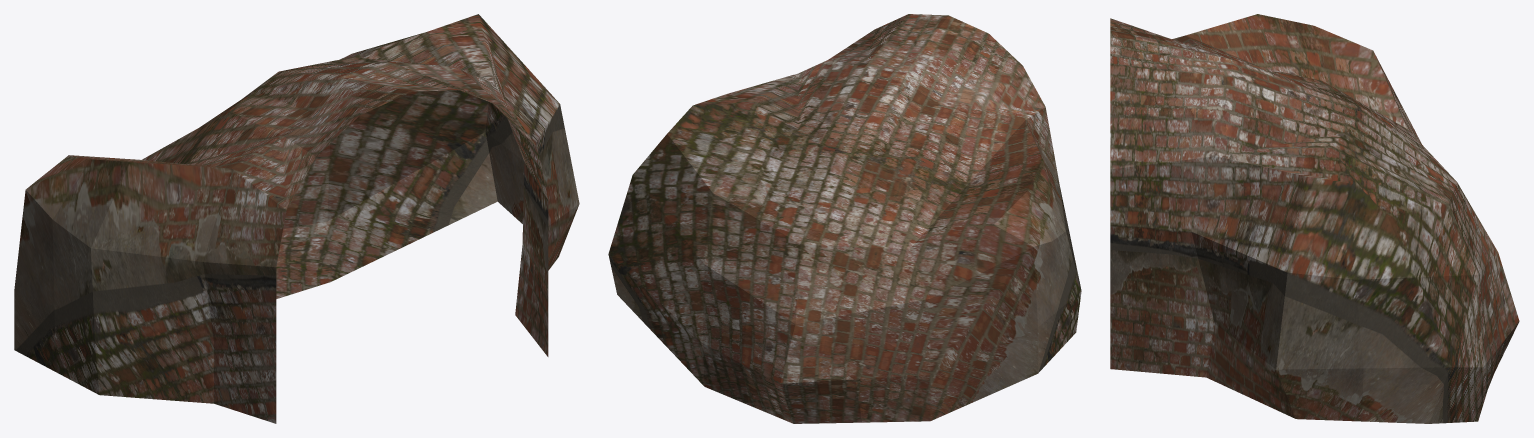
The model's file is tunnel_Wall_Hollow1_GEO.fbx.
The picture shows the model from 3 angles, left to right: view 1: azimuth 30°, elevation 25°; view 2: azimuth 150°, elevation 25°; view 3: azimuth 270°, elevation 25°; orthographic projection. The views are drawn at different scales.
Parts seen in each view (by area): view 1: tunnel_Wall_Hollow1_GEO; view 2: tunnel_Wall_Hollow1_GEO; view 3: tunnel_Wall_Hollow1_GEO.
Part boxes in pixels (x1,y1,x2,y2): tunnel_Wall_Hollow1_GEO: (14, 14, 579, 423); tunnel_Wall_Hollow1_GEO: (608, 14, 1081, 423); tunnel_Wall_Hollow1_GEO: (1110, 14, 1519, 423).
Bounding box in the file's own units: 9.46 × 6.66 × 7.05.
